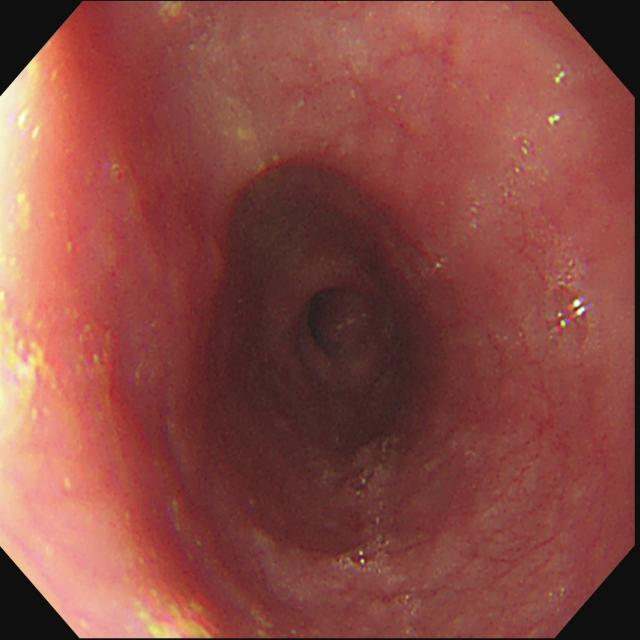E: (302, 282, 384, 381)
T: (344, 468, 391, 577), (541, 282, 592, 348), (509, 133, 544, 180)
